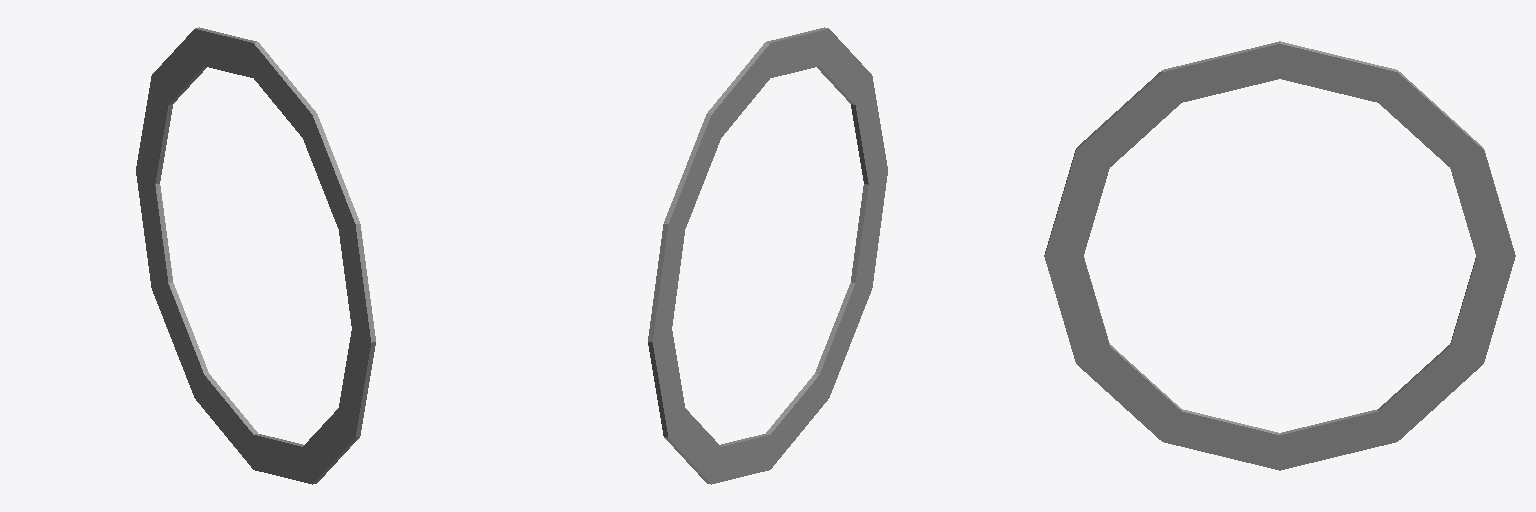
Rendered from HandleDisk.obj.
The picture shows the model from 3 angles: view 1: azimuth 30°, elevation 25°; view 2: azimuth 150°, elevation 25°; view 3: azimuth 270°, elevation 25°; orthographic projection.
Parts seen in each view (by area): view 1: Cylinder.893_Cylinder.935; view 2: Cylinder.893_Cylinder.935; view 3: Cylinder.893_Cylinder.935.
Part boxes in pixels (x1,y1,x2,y2): Cylinder.893_Cylinder.935: (136,27,375,484); Cylinder.893_Cylinder.935: (648,27,887,484); Cylinder.893_Cylinder.935: (1044,41,1515,470).
Bounding box in the file's own units: 0.0038 × 0.3136 × 0.3136.